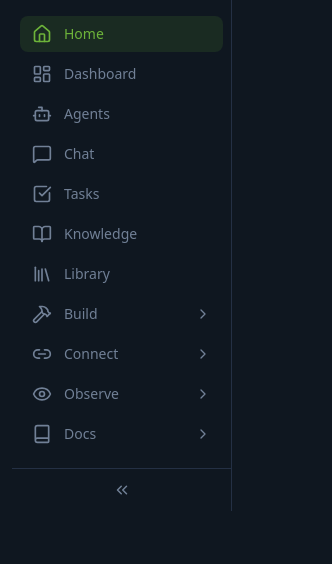
Scenario: Expandable docs nav (Sidebar) › shows Platform Docs child for all users
Click the button "Docs" at point(122, 434), box [20,416,223,452]
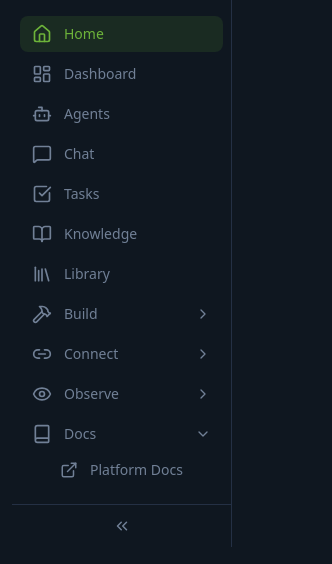
Result: the link "Platform Docs" is shown at [60,460,183,479]
